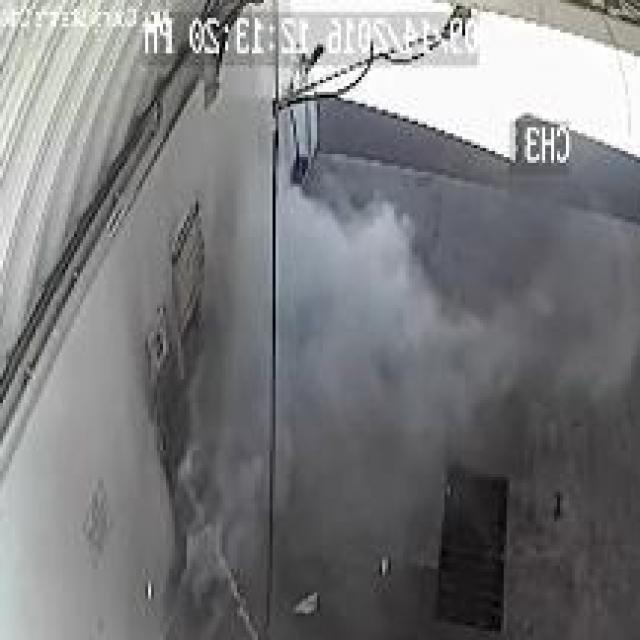fire: (282, 182, 472, 440)
